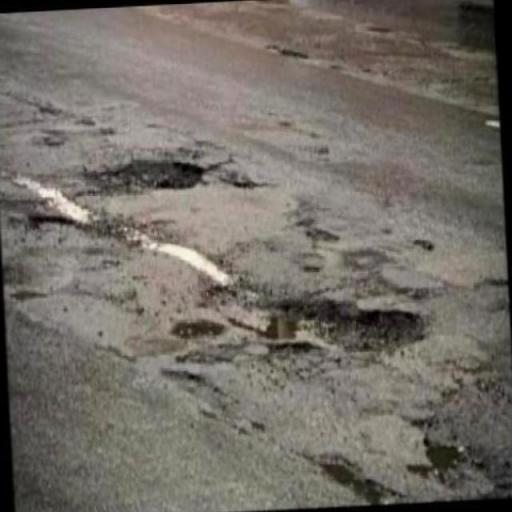pothole: (218, 163, 512, 474), (65, 98, 256, 289)
